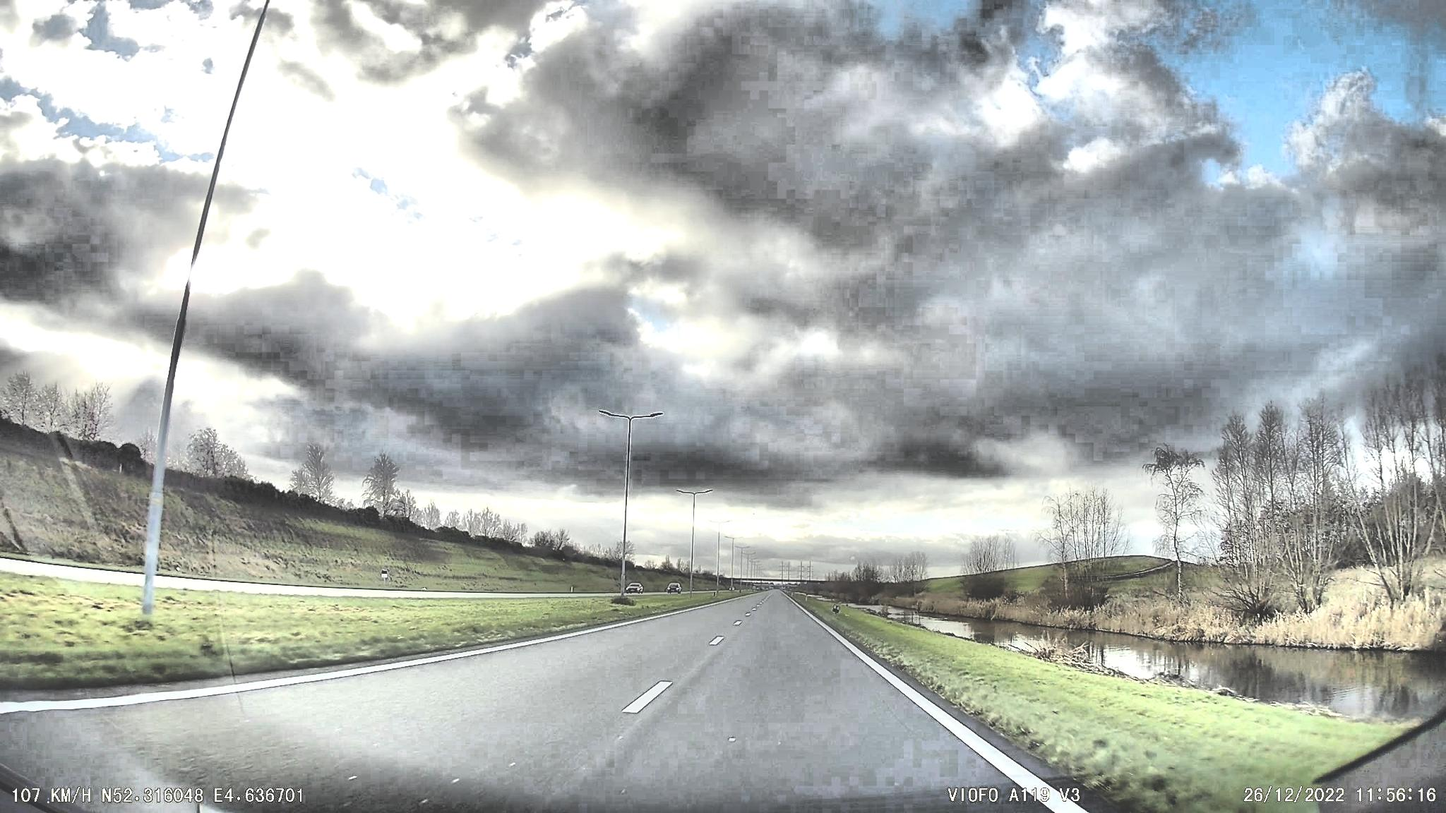Roads: (0, 604, 1088, 813)
